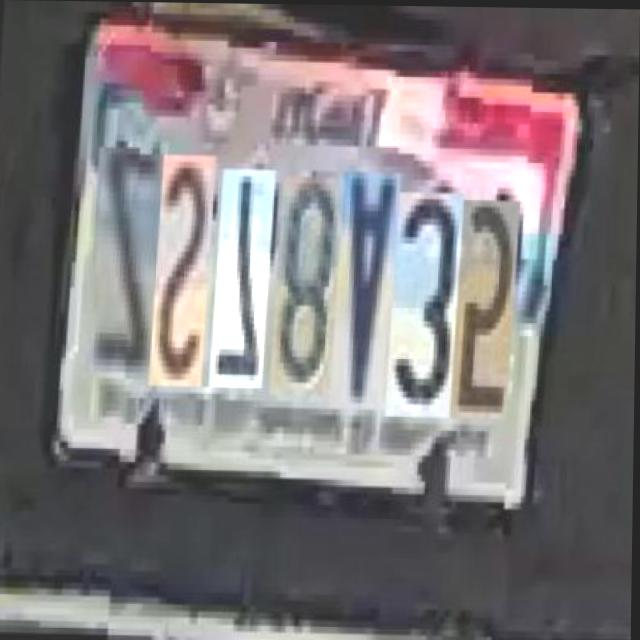3: (384, 189, 460, 416)
5: (448, 197, 517, 417)
7: (208, 167, 271, 387)
8: (268, 174, 340, 395)
a: (327, 169, 397, 409)
s: (147, 153, 212, 385)
z: (82, 152, 159, 379)
